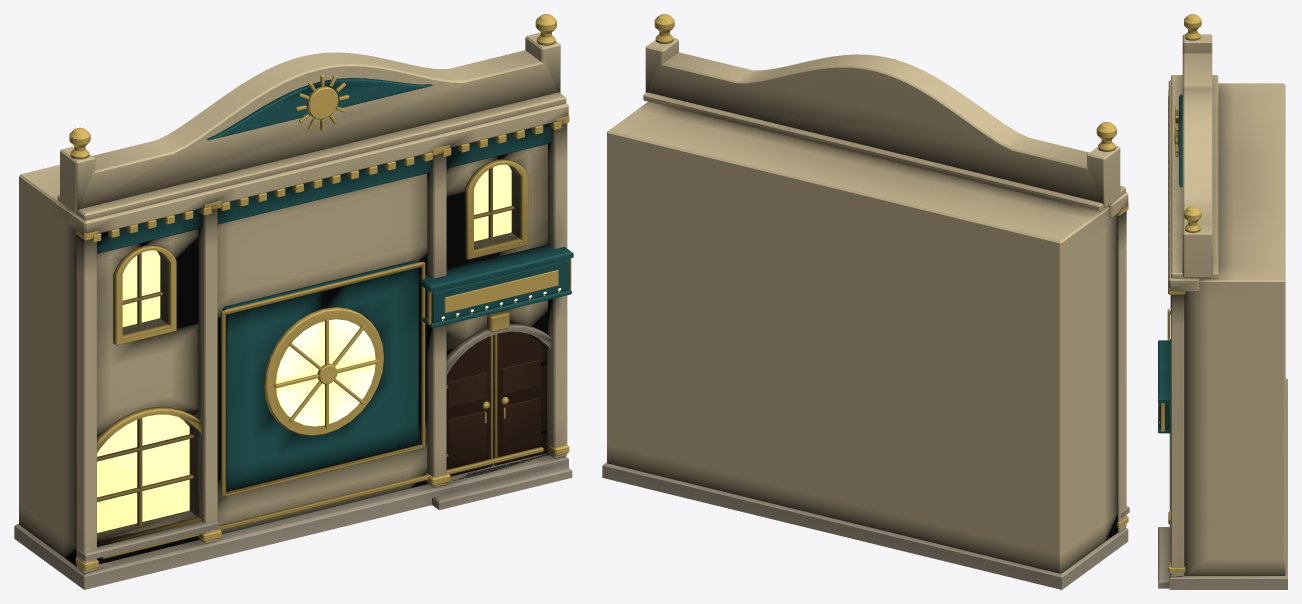
File: theatre_facade.glb
The picture shows the model from 3 angles, left to right: view 1: azimuth 30°, elevation 25°; view 2: azimuth 150°, elevation 25°; view 3: azimuth 270°, elevation 25°; orthographic projection. The views are drawn at different scales.
Visible parts, largest first — view 1: TheatreFacade_Shell, TheatreFacade_Pediment, TheatreFacade_Marquee, TheatreFacade_Door_R, TheatreFacade_Door_L; view 2: TheatreFacade_Shell, TheatreFacade_Pediment; view 3: TheatreFacade_Shell, TheatreFacade_Pediment, TheatreFacade_Marquee.
Part boxes in pixels (x1,y1,x2,y2): TheatreFacade_Shell: (14,92,572,589); TheatreFacade_Pediment: (60,14,560,213); TheatreFacade_Marquee: (419,244,573,327); TheatreFacade_Door_R: (493,331,547,465); TheatreFacade_Door_L: (446,335,492,476); TheatreFacade_Shell: (602,92,1129,589); TheatreFacade_Pediment: (645,14,1120,207); TheatreFacade_Shell: (1158,75,1287,589); TheatreFacade_Pediment: (1174,14,1212,277); TheatreFacade_Marquee: (1158,340,1170,433).
Bounding box in the file's own units: 0.2 × 0.18 × 0.055.
